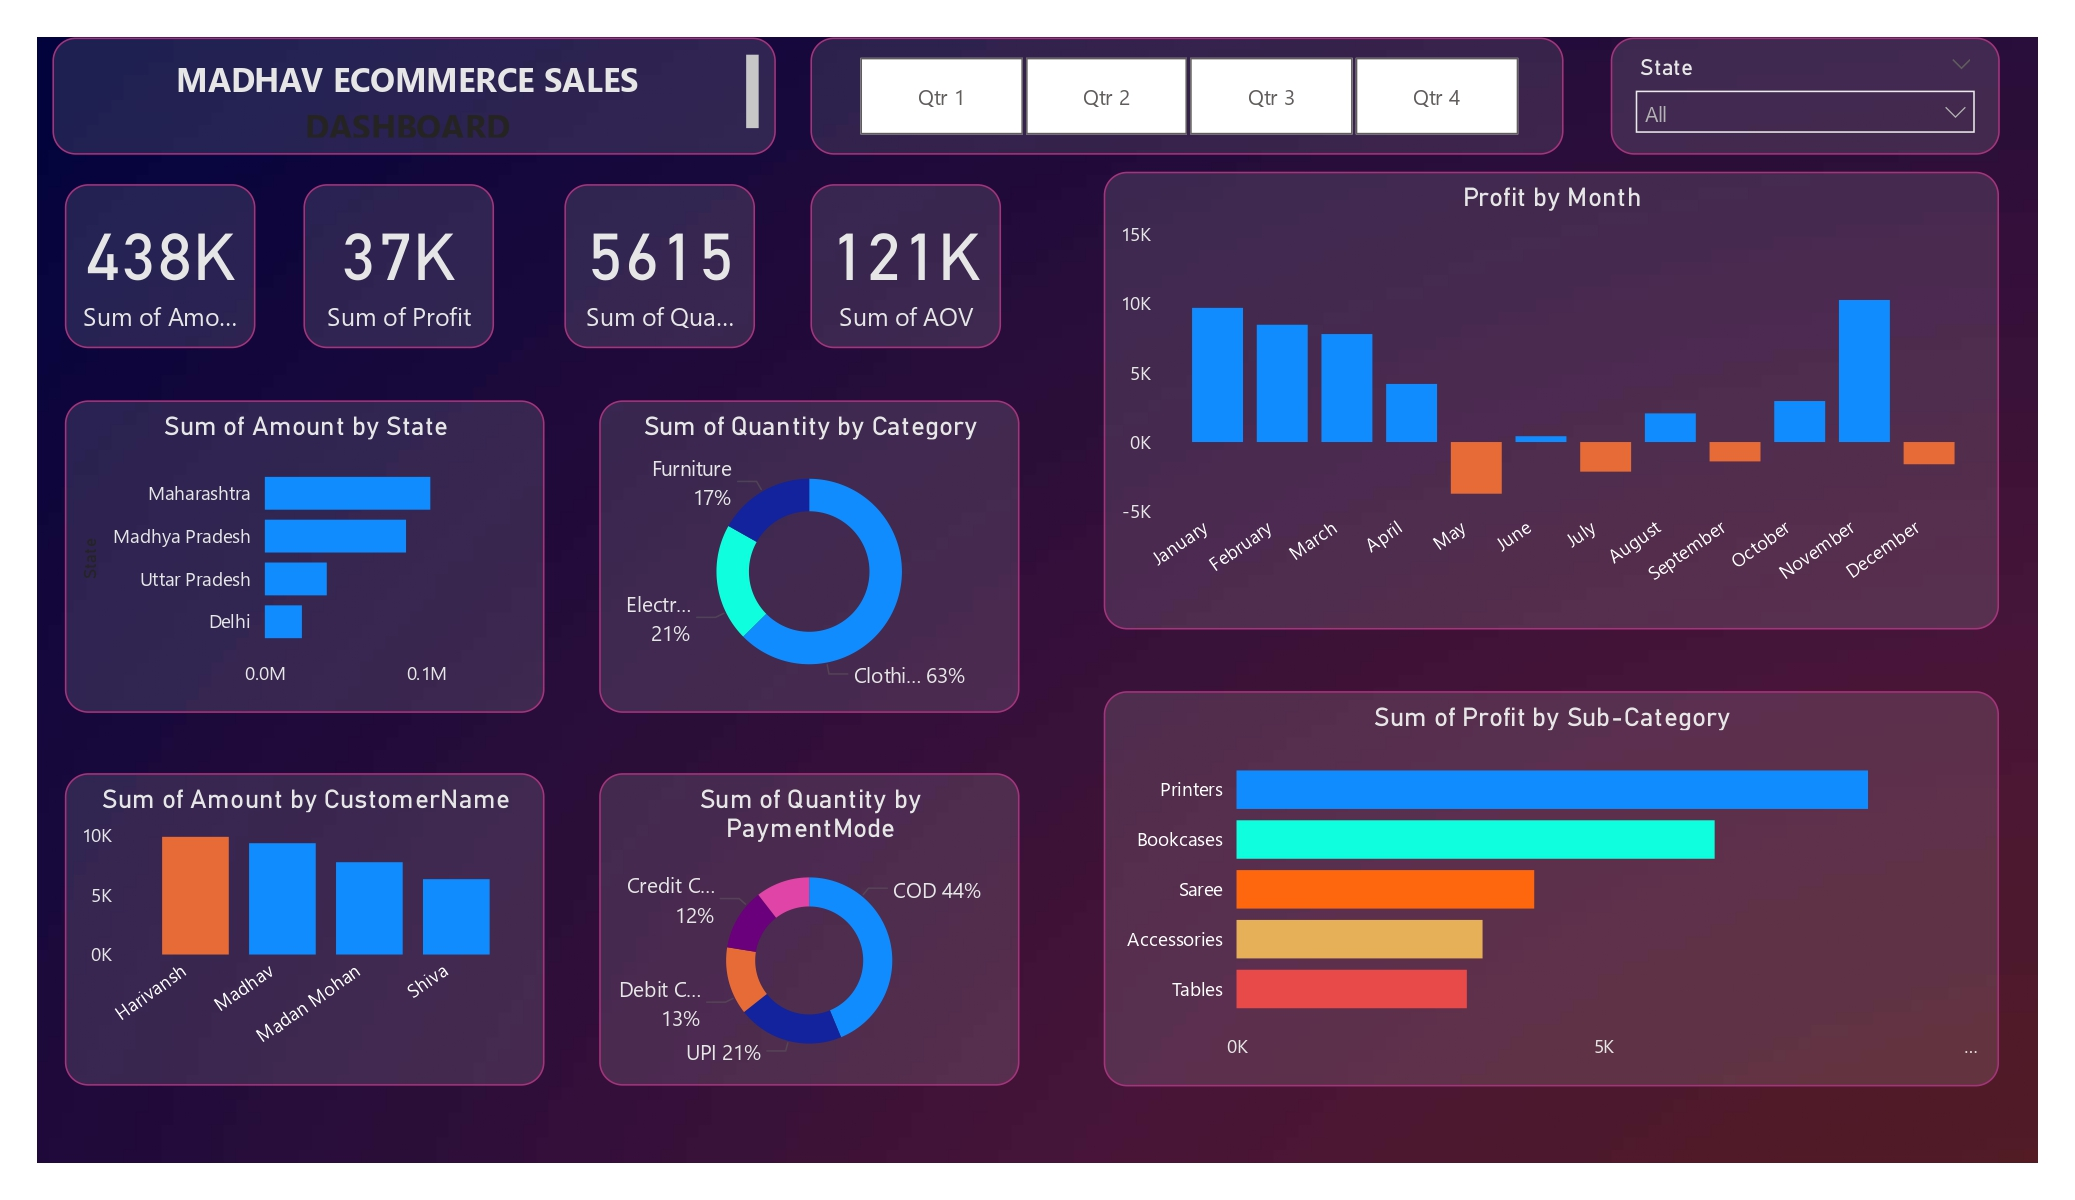

This screenshot's page, from the dashboard's own definition file:
{"tool":"powerbi","page":{"name":"Page 1","canvas":[1280,720],"ordinal":0},"visuals":[{"type":"textbox","box":[9.9,0,462.6,75.5],"z":0},{"type":"columnChart","title":"Profit by Month","fields":{"Category":["Orders.Order Date.Variation.Date Hierarchy.Month"],"Y":["Details.Profit"]},"box":[682.4,85.9,572.6,292.7],"z":1000},{"type":"barChart","fields":{"Category":["Details.Sub-Category"],"Y":["Details.Profit"]},"box":[682.4,418.3,572.6,252.9],"z":2000},{"type":"donutChart","fields":{"Category":["Details.Category"],"Y":["Details.Quantity"]},"box":[359.5,232.2,268.8,200.4],"z":3000},{"type":"donutChart","fields":{"Category":["Details.PaymentMode"],"Y":["Details.Quantity"]},"box":[359.5,470.8,268.8,200.4],"z":4000},{"type":"card","fields":{"Values":["Details.Amount"]},"box":[17.5,93.8,122.5,105],"z":5000},{"type":"card","fields":{"Values":["Details.Profit"]},"box":[170.2,93.8,122.5,105],"z":6000},{"type":"card","fields":{"Values":["Details.AOV"]},"box":[494.7,93.8,122.5,105],"z":7000},{"type":"card","fields":{"Values":["Details.Quantity"]},"box":[337.2,93.8,122.5,105],"z":8000},{"type":"barChart","fields":{"Category":["Orders.State"],"Y":["Details.Amount"]},"box":[17.5,232.2,307,200.4],"z":9000},{"type":"columnChart","fields":{"Y":["Details.Amount"],"Category":["Orders.CustomerName"]},"box":[17.5,470.8,307,200.4],"z":10000},{"type":"slicer","fields":{"Values":["Orders.Order Date.Variation.Date Hierarchy.Quarter"]},"box":[494.4,0,482.5,75.5],"z":11000},{"type":"slicer","fields":{"Values":["Orders.State"]},"box":[1006.6,0,249.1,74.9],"z":12000}]}

Visuals, with their boxes on the page's 1280x720 design canvas (x1, y1, x2, y2). These are canvas units, not pixel positions in the 2075x1200 screenshot, which may show the page scaled, cropped or inside an application window:
textbox: x1=10, y1=0, x2=472, y2=76
"Profit by Month" columnChart: x1=682, y1=86, x2=1255, y2=379
barChart - Details.Sub-Category x Details.Profit: x1=682, y1=418, x2=1255, y2=671
donutChart - Details.Category x Details.Quantity: x1=360, y1=232, x2=628, y2=433
donutChart - Details.PaymentMode x Details.Quantity: x1=360, y1=471, x2=628, y2=671
card - Details.Amount: x1=18, y1=94, x2=140, y2=199
card - Details.Profit: x1=170, y1=94, x2=293, y2=199
card - Details.AOV: x1=495, y1=94, x2=617, y2=199
card - Details.Quantity: x1=337, y1=94, x2=460, y2=199
barChart - Orders.State x Details.Amount: x1=18, y1=232, x2=324, y2=433
columnChart - Details.Amount x Orders.CustomerName: x1=18, y1=471, x2=324, y2=671
slicer - Orders.Order Date.Variation.Date Hierarchy.Quarter: x1=494, y1=0, x2=977, y2=76
slicer - Orders.State: x1=1007, y1=0, x2=1256, y2=75
